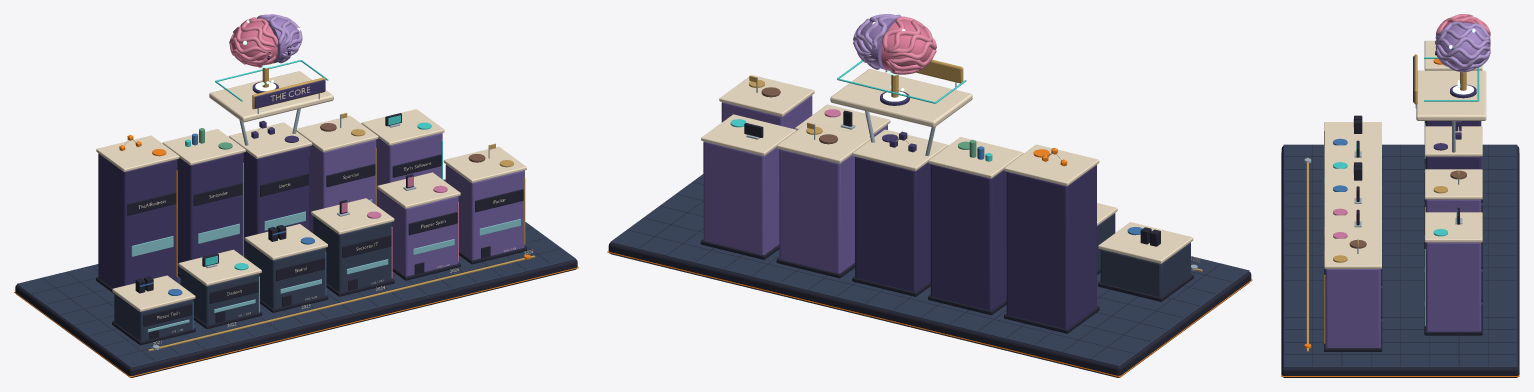
File: career.glb
3 views of the same model, side by side, from view 1: azimuth 30°, elevation 25°; view 2: azimuth 150°, elevation 25°; view 3: azimuth 270°, elevation 25° (orthographic). The views are drawn at different scales.
Parts seen in each view (by area): view 1: Satin floor.001, Career_11_Tower, Foundation.001, Career_10_Tower, Career_06_Tower, Career_09_Tower, Career_05_Tower, Career_08_Tower, Career_04_Tower, Career_03_Tower, Career_CoreDeck, Career_07_Tower (+30 smaller); view 2: Satin floor.001, Career_11_Tower, Career_10_Tower, Career_09_Tower, Career_08_Tower, Career_07_Tower, Foundation.001, Career_CoreDeck, Career_01_Tower, Career_11_Roof, Career_06_Roof, Career_08_Roof (+10 smaller); view 3: Satin floor.001, Career_07_Tower, Career_06_Tower, Foundation.001, Career_CoreDeck, Career_07_Roof, Career_08_Roof, Career_06_Roof, Career_09_Roof, Career_05_Roof, Career_04_Roof, Career_02_Roof (+21 smaller).
Boxes of the visible parts, left/top/right/bottom form: Satin floor.001: left=17, top=179, right=575, bottom=367; Career_11_Tower: left=98, top=153, right=177, bottom=288; Foundation.001: left=15, top=259, right=577, bottom=377; Career_10_Tower: left=177, top=152, right=243, bottom=273; Career_06_Tower: left=445, top=164, right=524, bottom=259; Career_09_Tower: left=243, top=146, right=309, bottom=256; Career_05_Tower: left=379, top=190, right=458, bottom=276; Career_08_Tower: left=310, top=139, right=376, bottom=232; Career_04_Tower: left=313, top=216, right=392, bottom=292; Career_03_Tower: left=247, top=242, right=325, bottom=308; Career_CoreDeck: left=209, top=71, right=333, bottom=122; Career_07_Tower: left=376, top=133, right=442, bottom=206; Satin floor.001: left=610, top=174, right=1249, bottom=366; Career_11_Tower: left=1006, top=165, right=1096, bottom=328; Career_10_Tower: left=930, top=164, right=1006, bottom=310; Career_09_Tower: left=855, top=156, right=930, bottom=291; Career_08_Tower: left=779, top=149, right=854, bottom=273; Career_07_Tower: left=703, top=141, right=779, bottom=254; Foundation.001: left=608, top=242, right=1251, bottom=377; Career_CoreDeck: left=830, top=69, right=972, bottom=127; Career_01_Tower: left=1100, top=242, right=1190, bottom=296; Career_11_Roof: left=1004, top=144, right=1099, bottom=186; Career_06_Roof: left=719, top=75, right=814, bottom=116; Career_08_Roof: left=777, top=122, right=870, bottom=163; Satin floor.001: left=1283, top=144, right=1517, bottom=367; Career_07_Tower: left=1426, top=242, right=1481, bottom=331; Career_06_Tower: left=1325, top=269, right=1380, bottom=347; Foundation.001: left=1281, top=146, right=1519, bottom=377; Career_CoreDeck: left=1416, top=70, right=1486, bottom=120; Career_07_Roof: left=1424, top=212, right=1482, bottom=242; Career_08_Roof: left=1424, top=169, right=1482, bottom=199; Career_06_Roof: left=1324, top=238, right=1381, bottom=268; Career_09_Roof: left=1424, top=126, right=1482, bottom=156; Career_05_Roof: left=1324, top=215, right=1381, bottom=238; Career_04_Roof: left=1324, top=192, right=1381, bottom=215; Career_02_Roof: left=1324, top=145, right=1381, bottom=168.
Bounding box in the file's own units: 18.14 × 9.33 × 8.14.
